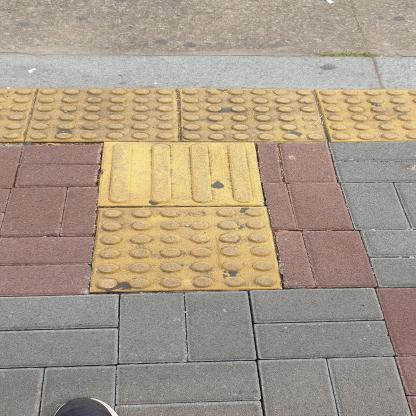podotacti: (0, 84, 415, 299)
